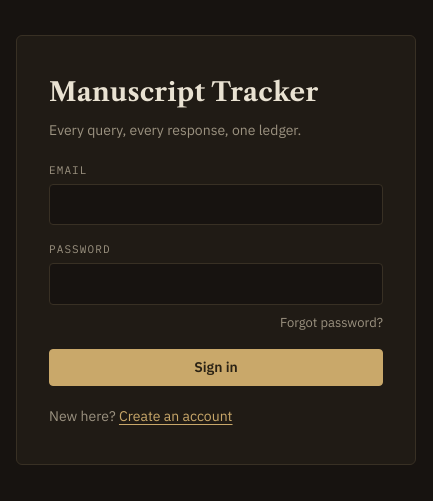
Scenario: LoginPage › shows the field error from a failed login
expect the heading "Manuscript Tracker" is shown: met, box [49, 76, 318, 108]
Type "robert@example.test" into the field labelled "Email".
click(216, 205); type("robert@example.test")  # box [49, 184, 383, 225]
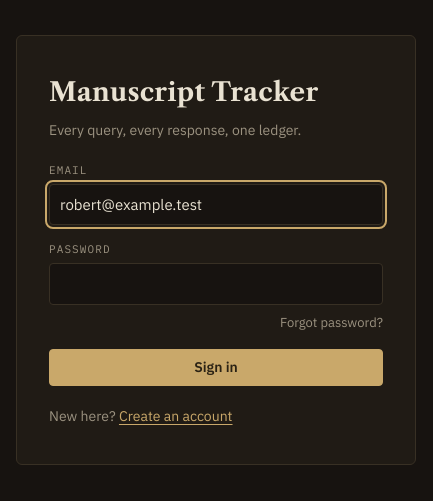
Type "wrong" into the password field labelled "Password".
click(216, 284); type("wrong")  # box [49, 263, 383, 305]
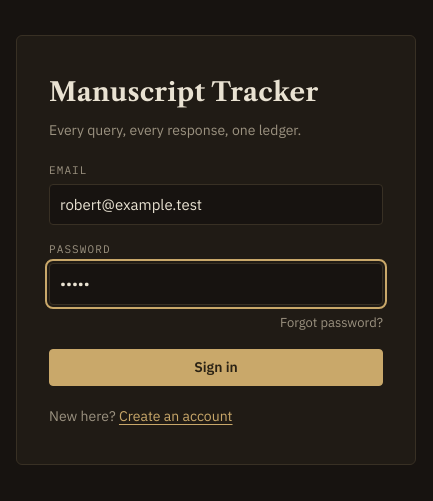
Click the button "Sign in".
click(216, 368)  # box [49, 349, 383, 386]
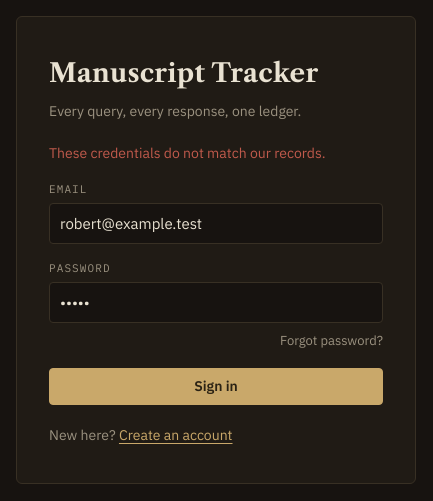
expect the button "Sign in" is enabled: met, box [49, 368, 383, 405]
expect the message reads "These credentials do not match our records.": met, box [49, 144, 326, 162]
